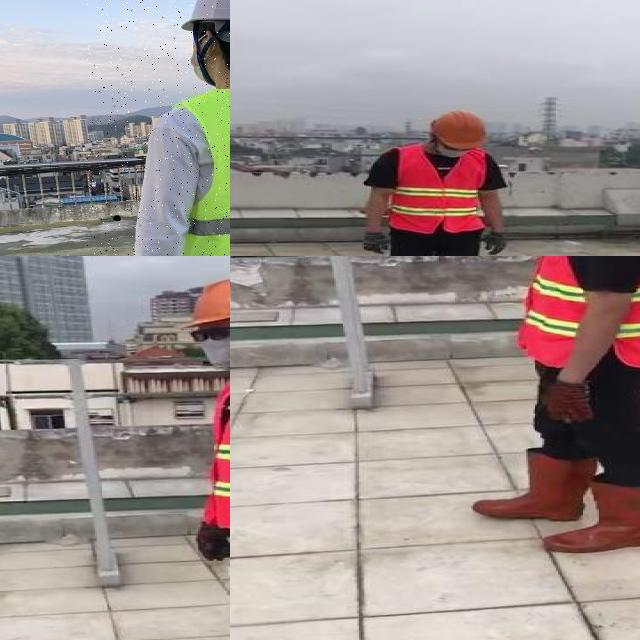boots: (473, 455, 597, 520), (540, 483, 640, 555)
face_mask: (191, 321, 230, 369)
glasses: (184, 322, 230, 345)
hand_glove: (540, 379, 596, 424), (196, 527, 230, 563), (360, 231, 390, 255), (483, 232, 508, 255)
head_helmet: (185, 277, 230, 322), (179, 0, 230, 30)
person: (462, 256, 640, 559), (87, 0, 230, 256), (176, 276, 230, 640), (427, 106, 489, 150)
vest: (519, 256, 640, 368), (170, 87, 230, 256), (391, 145, 486, 234)
